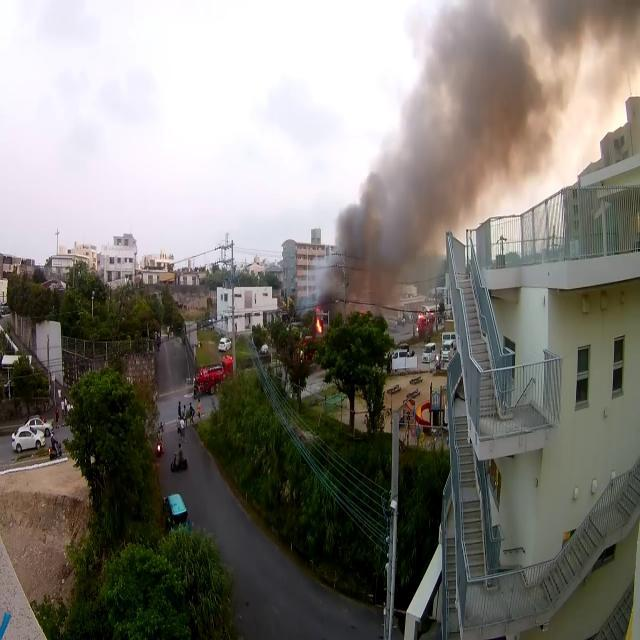Fire: (315, 319, 323, 332)
